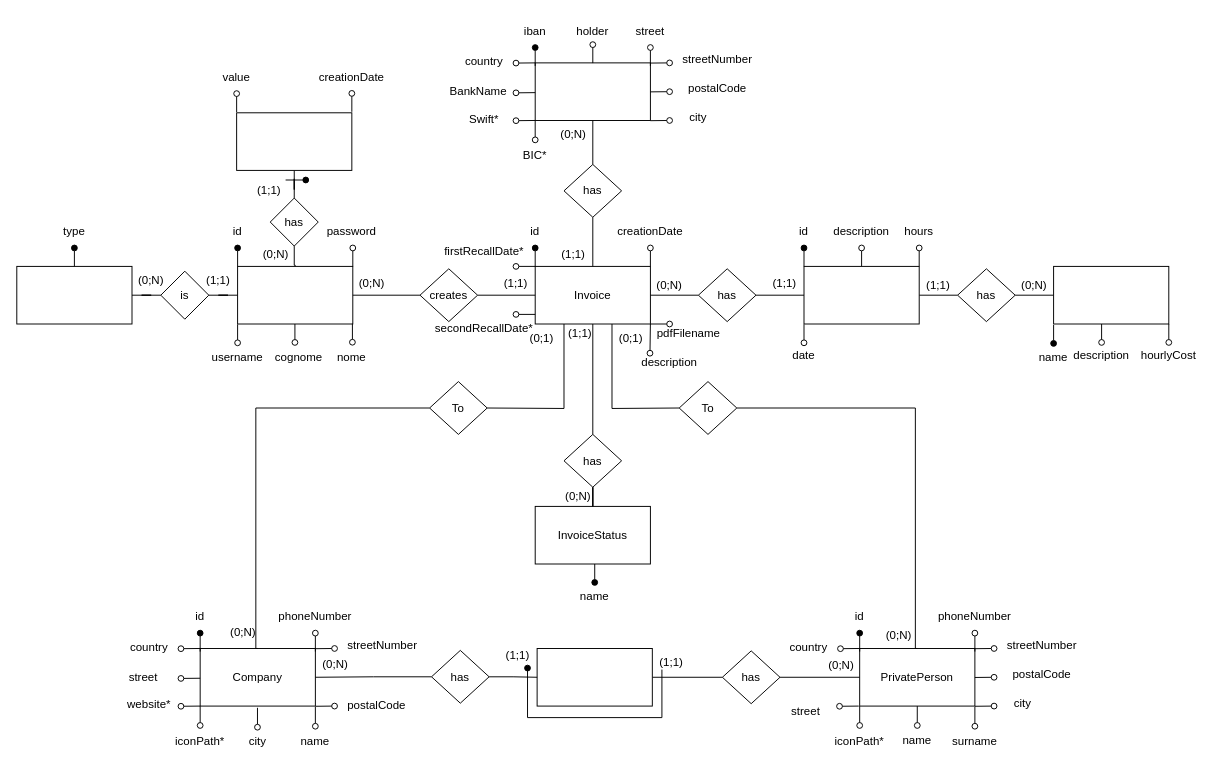
Some shapes in this 1214 by 772 pixel diagram are drawn without their labels. The centre of each missing label's shape, as x and y in pixels:
BankAccount: (592,91)
InvoiceTask: (861,294)
TaskType: (1111,294)
User: (295,294)
UserToken: (294,141)
UserType: (74,294)
WorksFor: (594,677)
